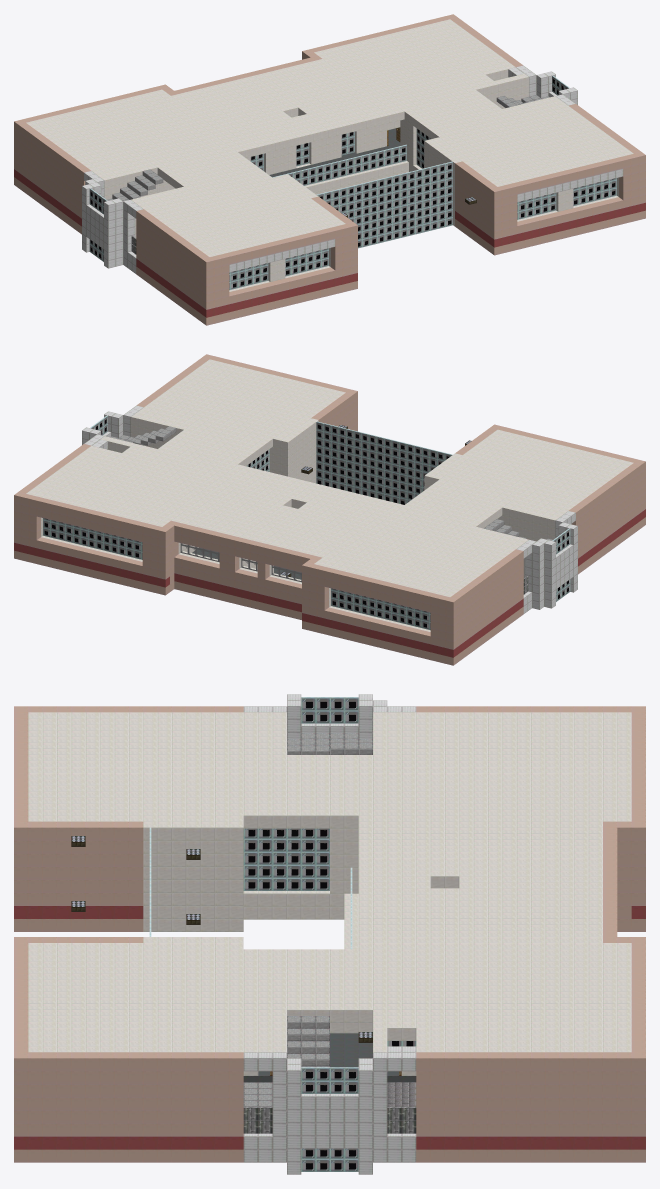
Rendered from senkoka4F.obj.
3 views of the same model, one above another, from view 1: azimuth 30°, elevation 25°; view 2: azimuth 150°, elevation 25°; view 3: azimuth 270°, elevation 25° (orthographic). The views are drawn at different scales.
Parts seen in each view (by area): view 1: R1KosenWorld__3_86_-217_to_68_93_-164; view 2: R1KosenWorld__3_86_-217_to_68_93_-164; view 3: R1KosenWorld__3_86_-217_to_68_93_-164.
Boxes of the visible parts, x1=… form: R1KosenWorld__3_86_-217_to_68_93_-164: x1=14, y1=14, x2=645, y2=325; R1KosenWorld__3_86_-217_to_68_93_-164: x1=14, y1=354, x2=645, y2=665; R1KosenWorld__3_86_-217_to_68_93_-164: x1=14, y1=694, x2=645, y2=1174.
Bounding box in the file's own units: 62 × 8 × 44.
